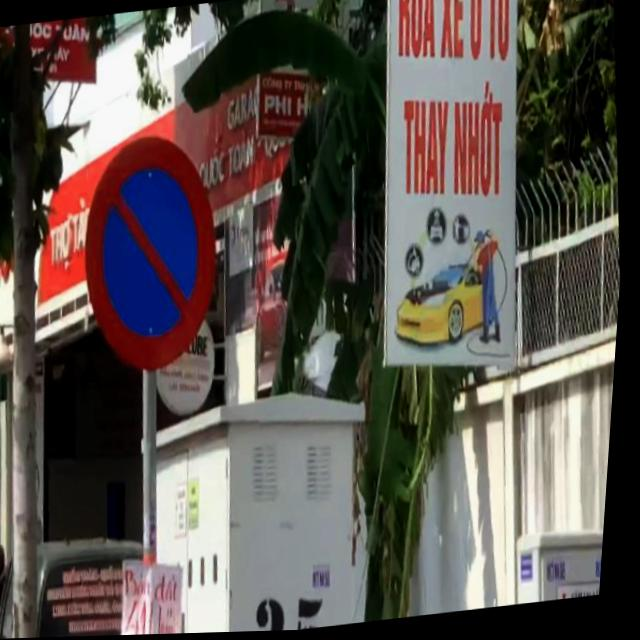Cam do xe: (71, 127, 238, 382)
